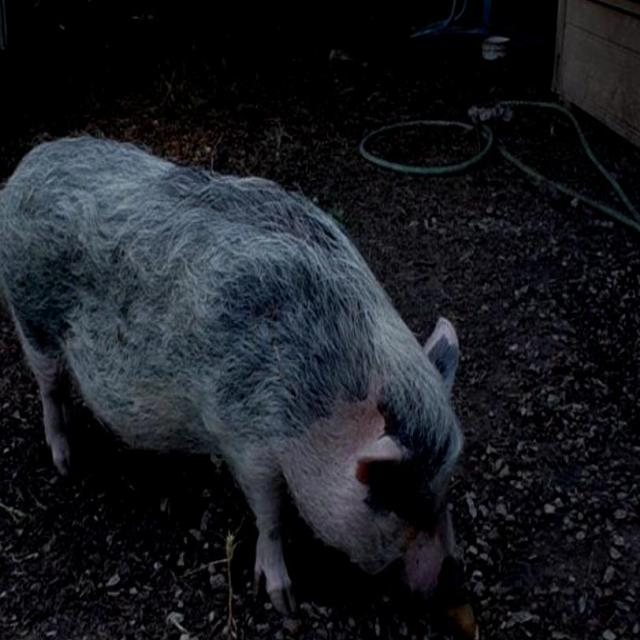pig: (0, 137, 462, 613)
